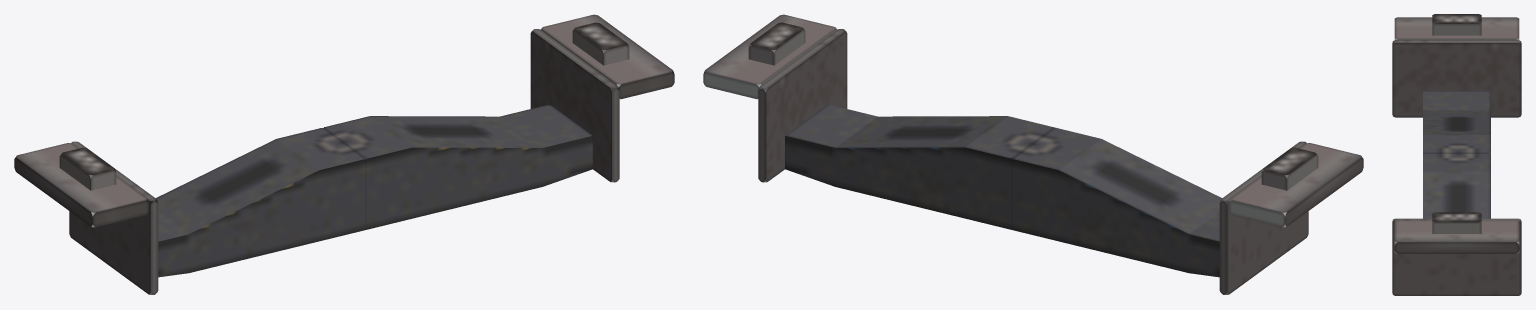
Rendered from bolster.obj.
The picture shows the model from 3 angles, left to right: view 1: azimuth 30°, elevation 25°; view 2: azimuth 150°, elevation 25°; view 3: azimuth 270°, elevation 25°; orthographic projection. The views are drawn at different scales.
Parts seen in each view (by area): view 1: bolster; view 2: bolster; view 3: bolster.
Boxes of the visible parts, box(x1,y1,x2,y2) form: bolster: box(14, 14, 674, 294); bolster: box(703, 14, 1363, 294); bolster: box(1392, 14, 1521, 295).
Size of the model in its own units: 2.84 by 0.5375 by 0.6875.
